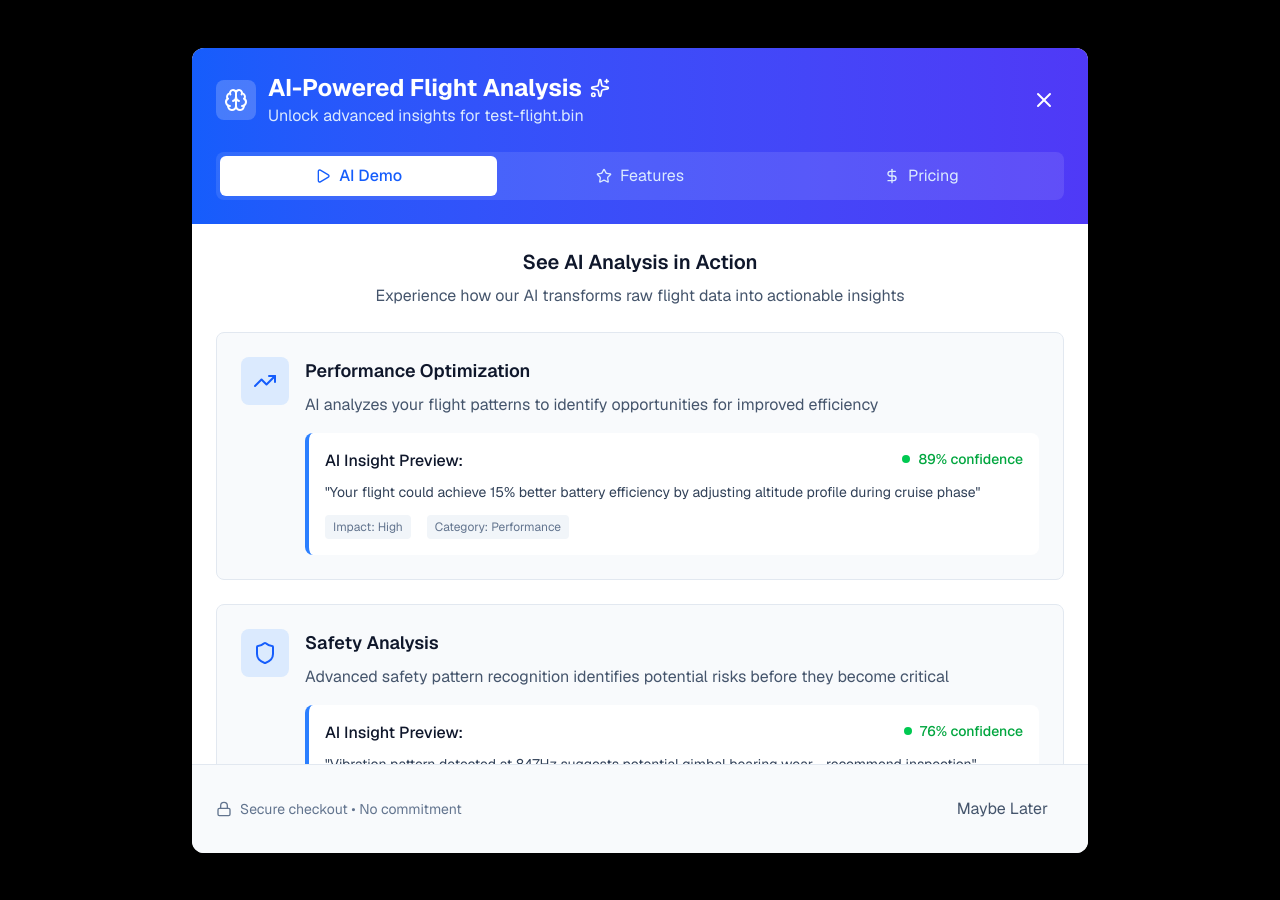
AiPreviewModal › Tab Navigation › should switch to pricing tab when clicked
Click the button "Pricing" at x=921, y=176, box left=783, top=156, right=1060, bottom=196
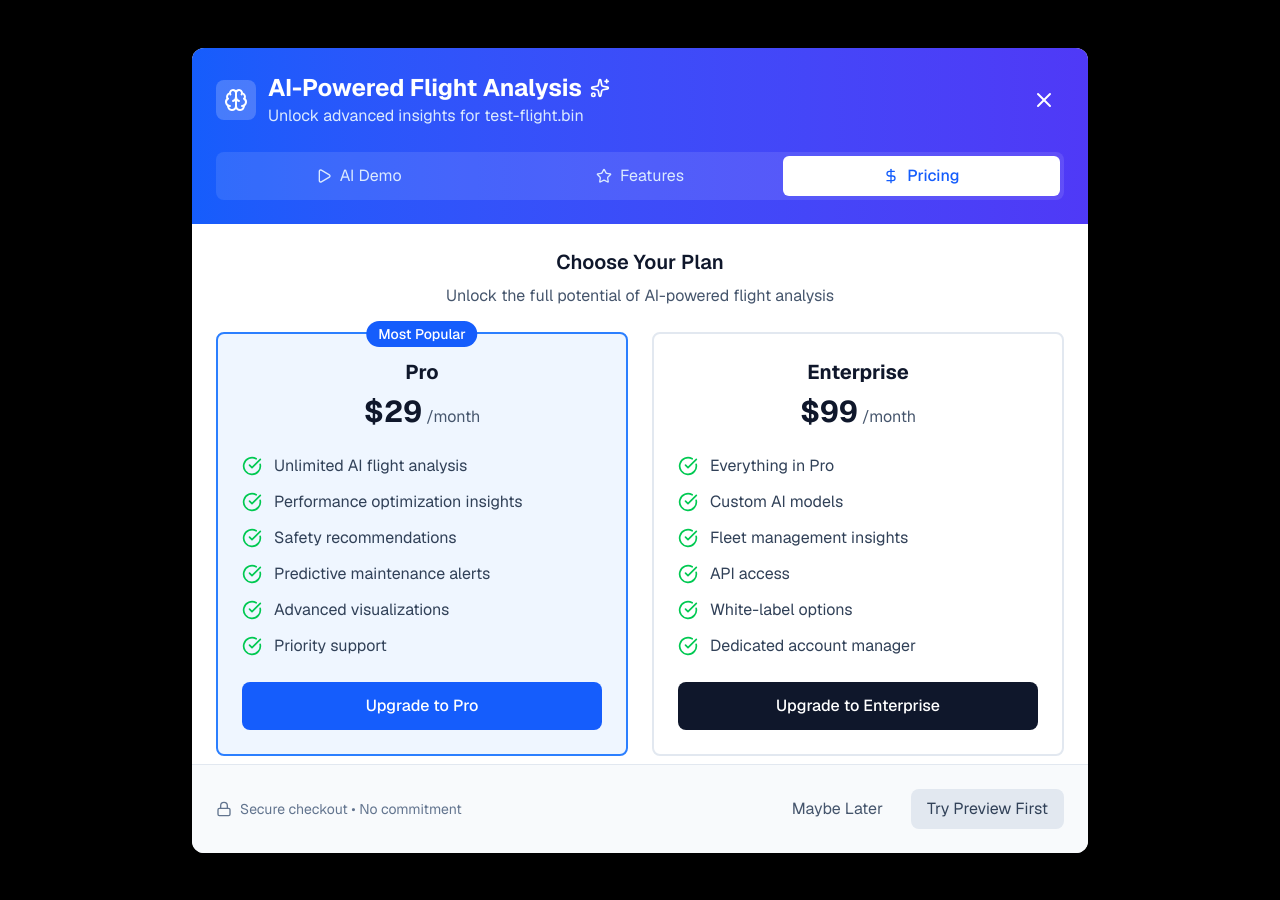
Check: the heading "Choose Your Plan" is shown, box left=556, top=248, right=724, bottom=274
Check: the text "$29" is shown, box left=364, top=394, right=422, bottom=430
Check: the text "$99" is shown, box left=800, top=394, right=858, bottom=430
